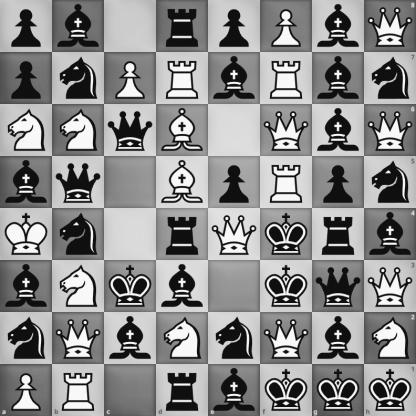B: (157, 105, 208, 156), (157, 157, 208, 208)
K: (1, 209, 52, 260)
N: (364, 312, 416, 364), (1, 105, 52, 156), (53, 105, 104, 156), (53, 261, 104, 312), (157, 313, 208, 364)
P: (0, 364, 52, 416), (105, 53, 156, 104), (261, 1, 312, 52)
Q: (364, 0, 416, 52), (364, 104, 416, 156), (364, 260, 416, 312), (53, 313, 104, 364), (209, 209, 260, 260), (261, 105, 312, 156), (261, 313, 312, 364)
R: (52, 364, 104, 416), (157, 53, 208, 104), (261, 53, 312, 104), (261, 157, 312, 208)
b: (209, 364, 260, 416), (364, 209, 416, 260), (1, 157, 52, 208), (1, 261, 52, 312), (53, 1, 104, 52), (105, 313, 156, 364), (157, 261, 208, 312), (209, 53, 260, 104), (313, 1, 364, 52), (313, 53, 364, 104), (313, 105, 364, 156), (313, 313, 364, 364)
board: (0, 0, 415, 415)
k: (260, 364, 312, 416), (312, 364, 364, 416), (364, 364, 416, 416), (105, 261, 156, 312), (261, 209, 312, 260), (261, 261, 312, 312)
n: (364, 156, 416, 209), (364, 52, 416, 104), (1, 313, 52, 364), (53, 53, 104, 104), (53, 209, 104, 260), (209, 313, 260, 364)
p: (1, 1, 52, 52), (1, 53, 52, 104), (209, 1, 260, 52), (209, 157, 260, 208), (313, 157, 364, 208)
q: (53, 157, 104, 208), (105, 105, 156, 156), (313, 261, 364, 312)
r: (156, 364, 209, 416), (157, 1, 208, 52), (157, 209, 208, 260), (313, 209, 364, 260)
